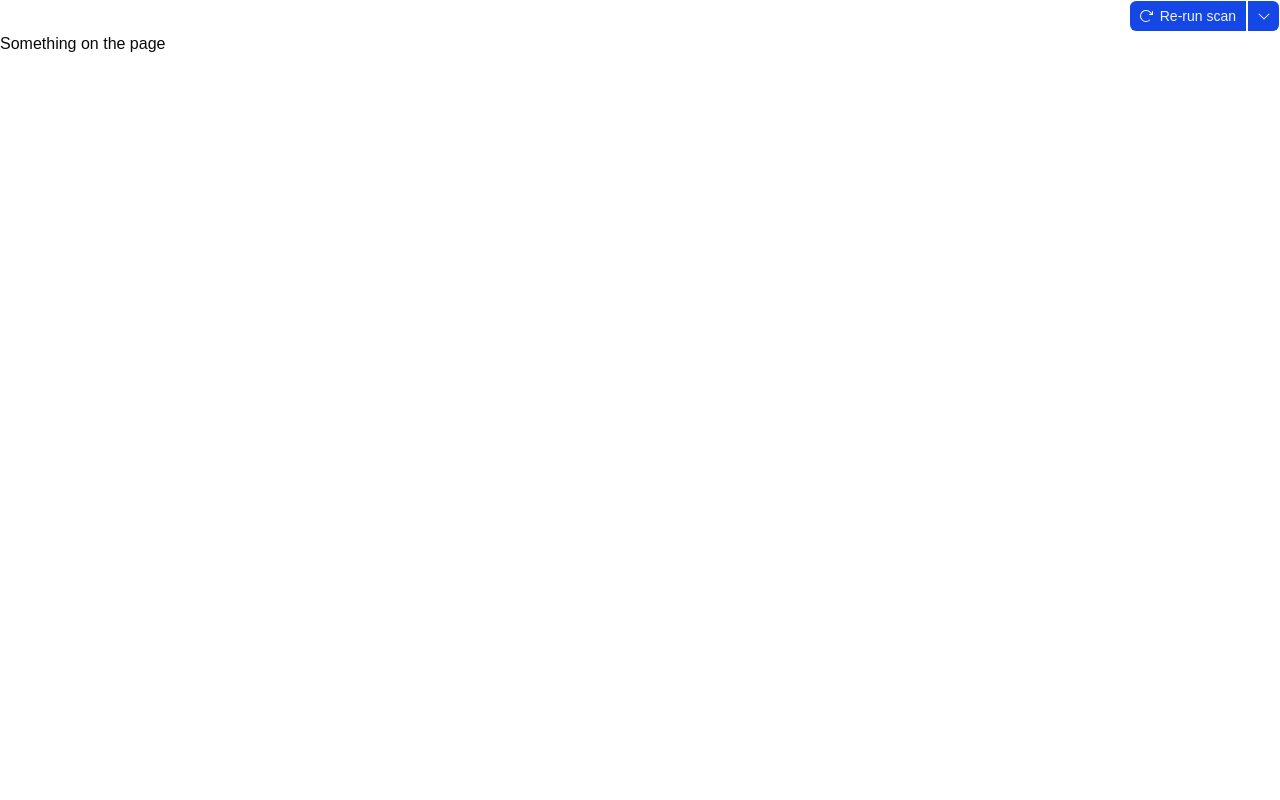
Scenario: unknown progress shows a sliding bar with no value, which sits still for reduced motion
Click the button "Re-run scan" at {"x": 1188, "y": 16}, box [1129,0,1247,32]
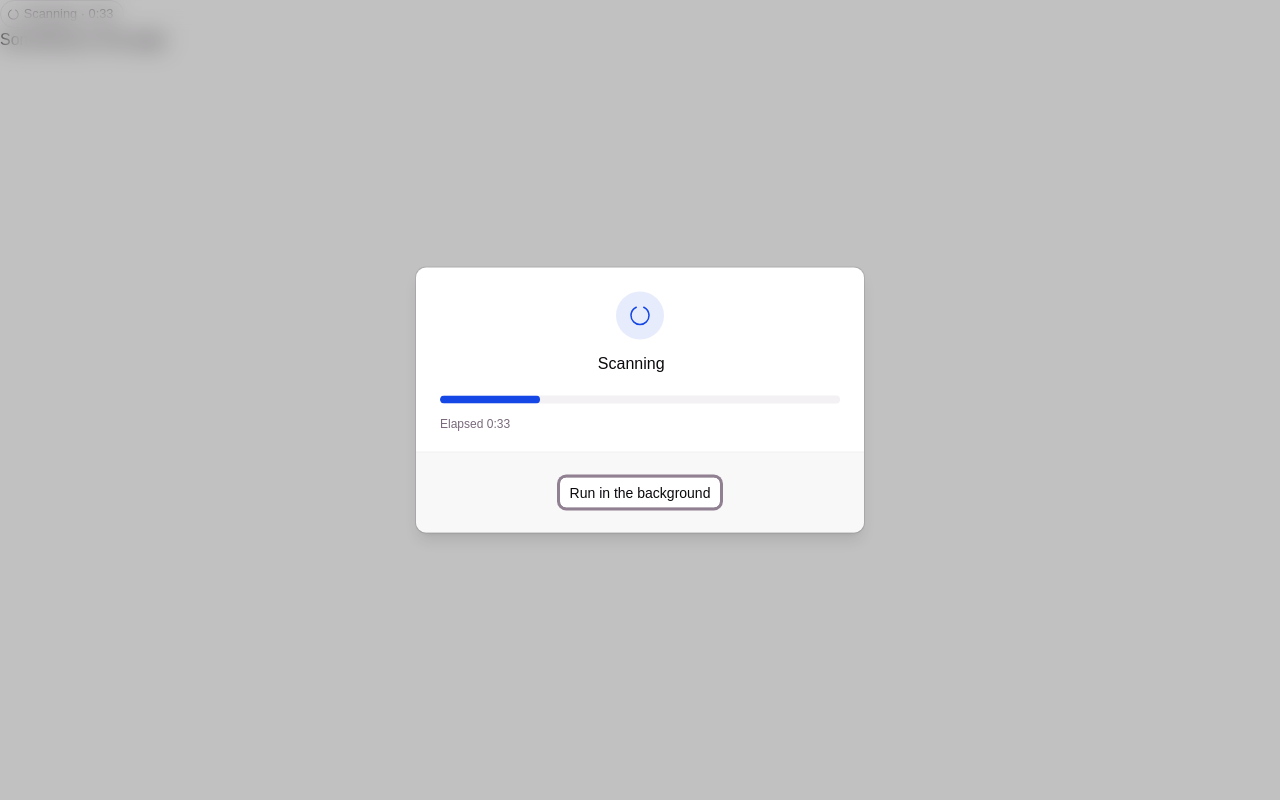
Now the icon with class "motion-safe" is shown, box [628,304,652,328]
